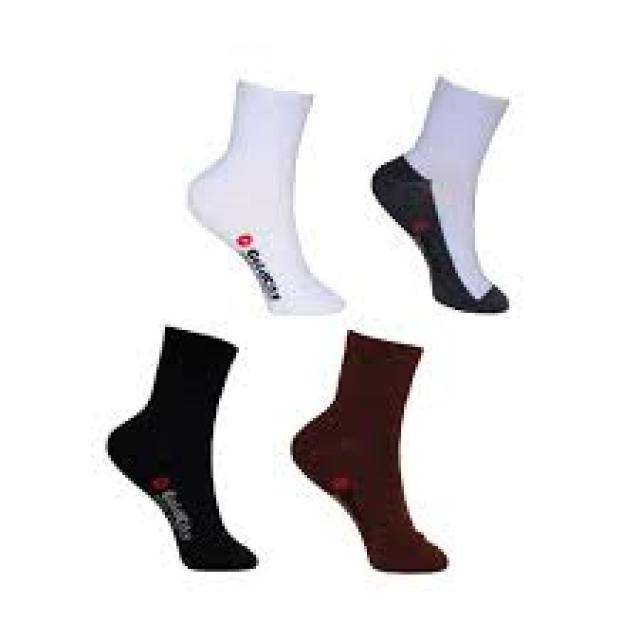sock: (287, 327, 447, 572), (185, 77, 344, 313), (105, 324, 256, 569), (370, 74, 509, 313)
